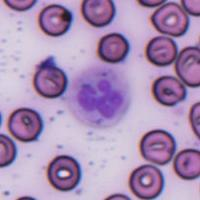N: (66, 64, 131, 128)
